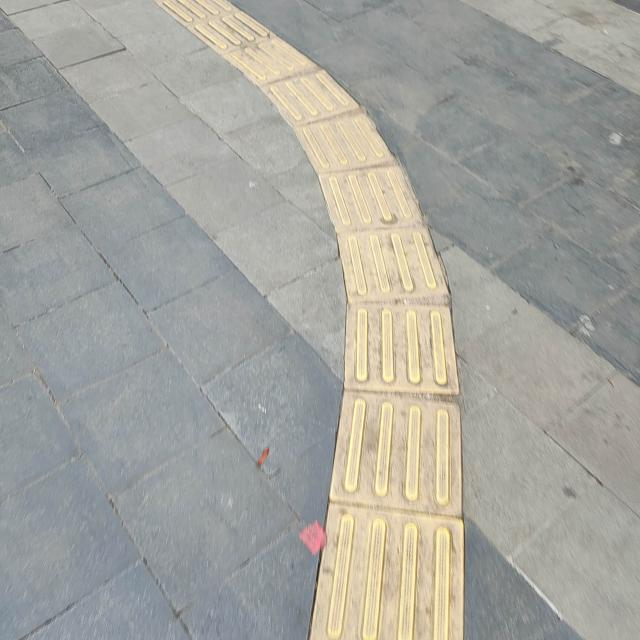lurus: (308, 148, 466, 640)
